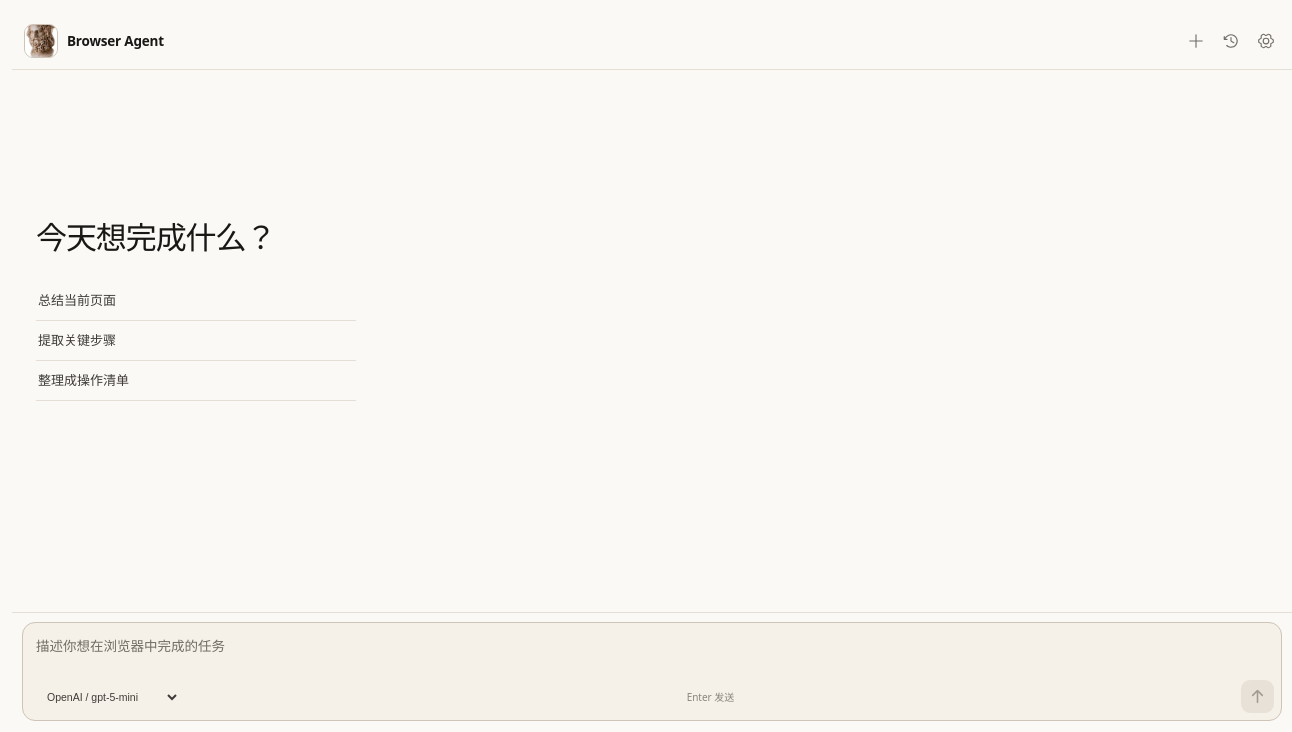
Test: Browser Agent 侧边栏 › 打开后分析当前页面并把点击的建议填入聊天框
Click the button "总结当前页面" at (77, 300), box [36,281,356,321]
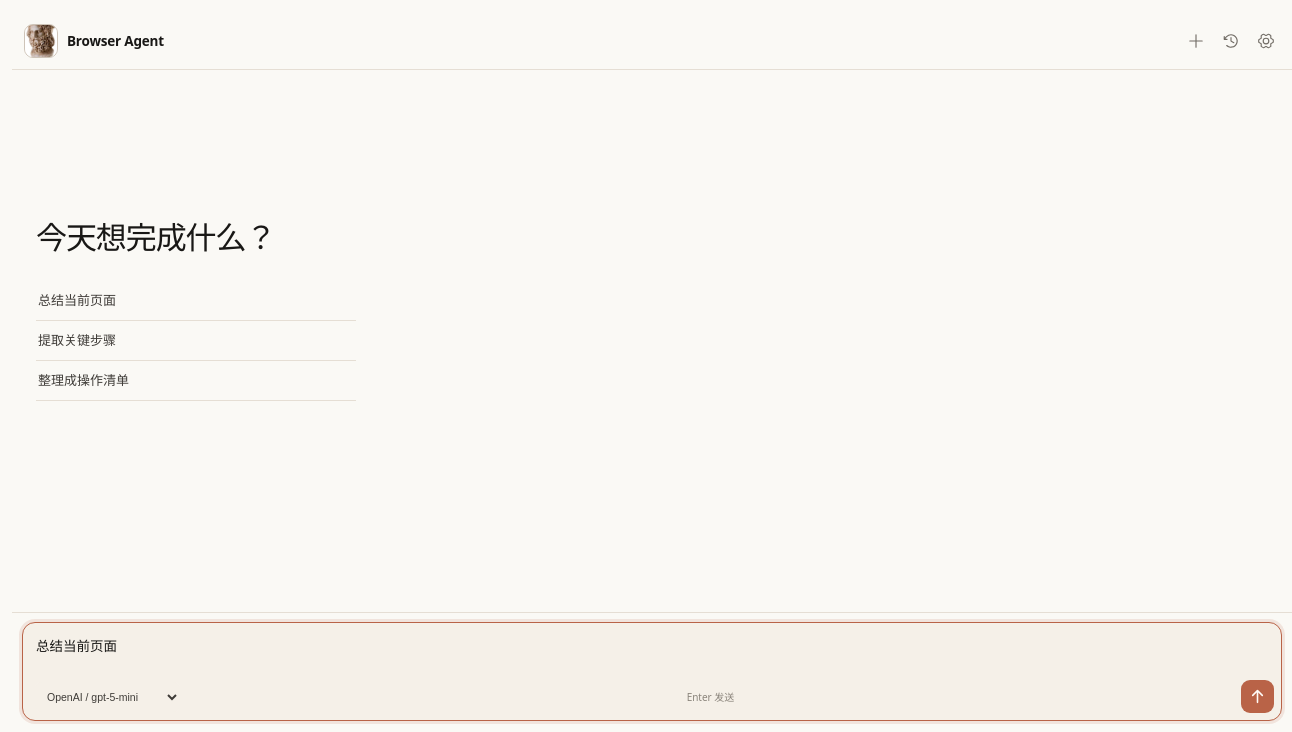
Now the text box named "任务内容" holds "总结当前页面", box [23,623,1281,677]
